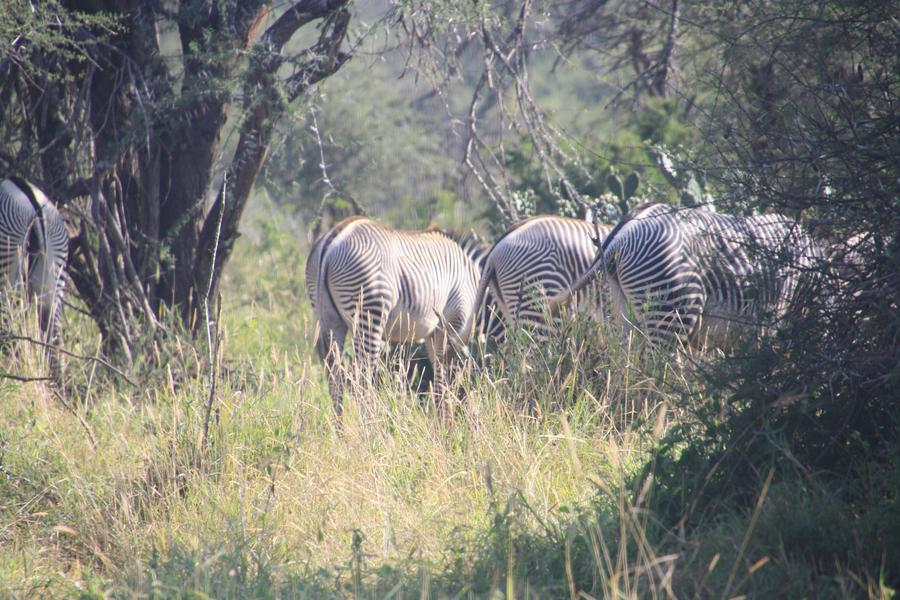zebra_grevys: (324, 206, 459, 319)
